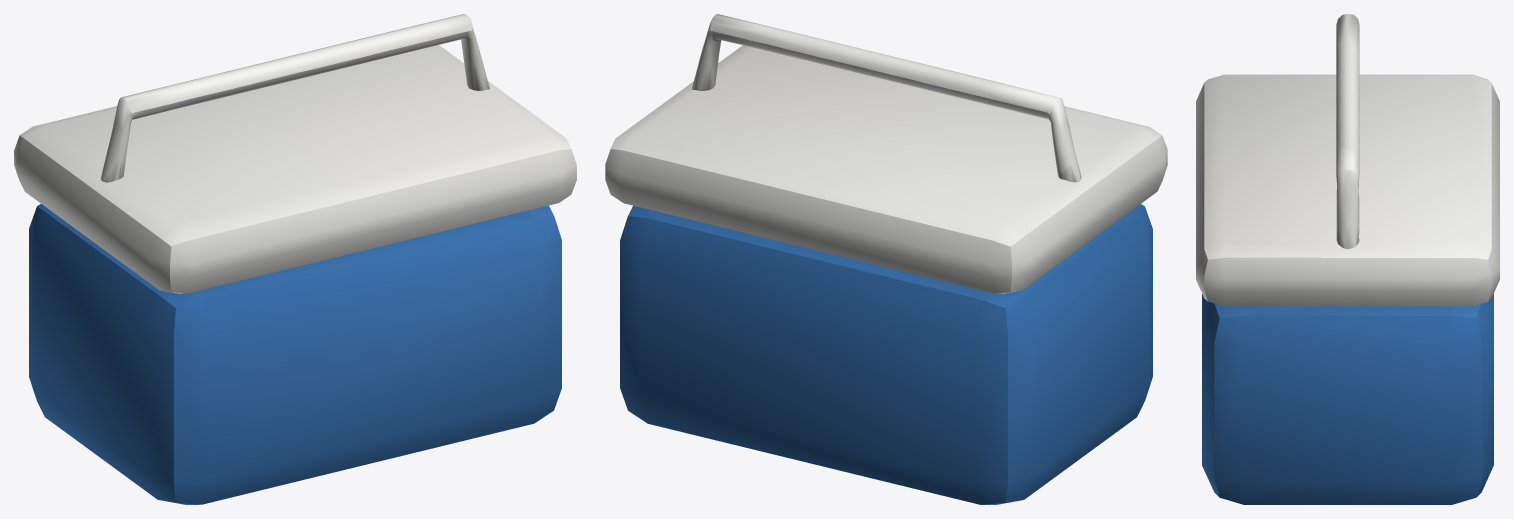
The model's file is shore_cooler_lod1.glb.
3 views of the same model, side by side, from view 1: azimuth 30°, elevation 25°; view 2: azimuth 150°, elevation 25°; view 3: azimuth 270°, elevation 25° (orthographic). The views are drawn at different scales.
Visible parts, largest first — view 1: shore_cooler.001; view 2: shore_cooler.001; view 3: shore_cooler.001.
Boxes of the visible parts, x1,y1,x2,y2 form: shore_cooler.001: (14,14,576,504); shore_cooler.001: (605,14,1167,504); shore_cooler.001: (1196,14,1499,504).
Bounding box in the file's own units: 15.4 × 12.79 × 10.4.
